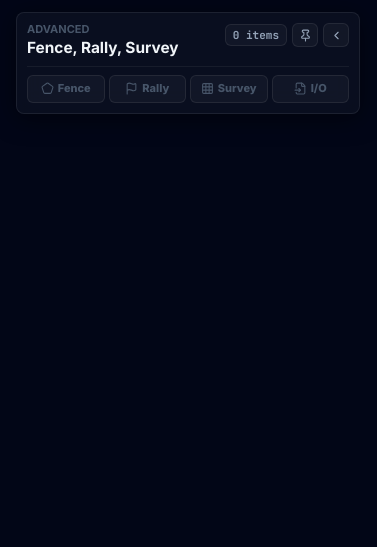
it: AdvancedMissionPanel › opens an unsaved Rally form from Manual coordinates
Click the tab "Rally" at [147, 89], box [108,75,186,103]
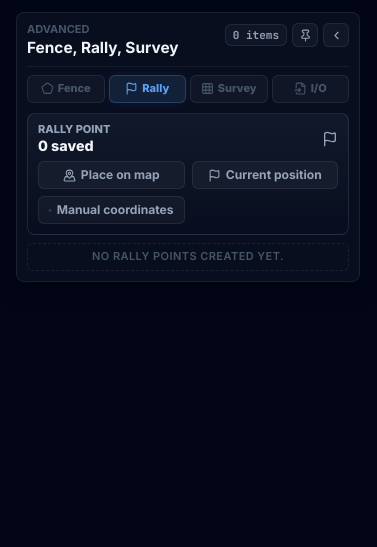
Click the button "Manual coordinates" at [111, 210], box [38,196,184,224]
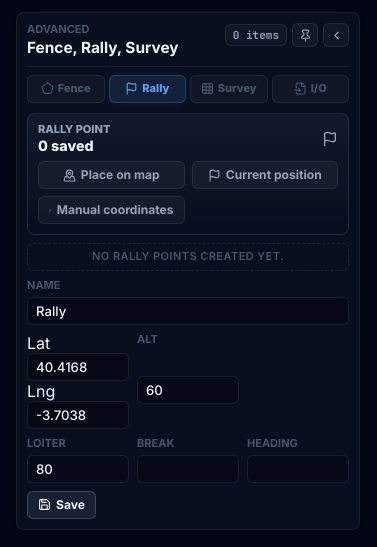
Expected: the text "save" is shown, [48,137,94,154]
Expected: the text "Name" is shown, [27,278,60,292]
Expected: the field with class "mp-input" showing "Name" is shown, [27,297,349,325]
